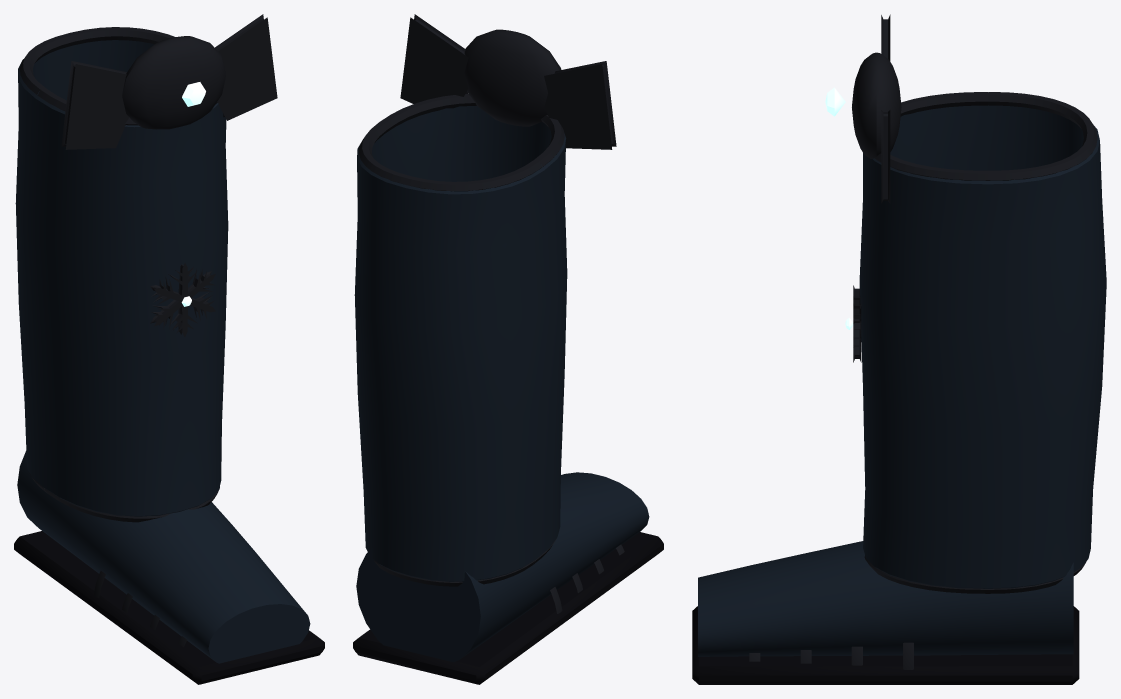
Rendered from esc_mirrorless_oracle_boots_R.glb.
3 views of the same model, side by side, from view 1: azimuth 30°, elevation 25°; view 2: azimuth 150°, elevation 25°; view 3: azimuth 270°, elevation 25° (orthographic). The views are drawn at different scales.
Parts seen in each view (by area): view 1: esc_mirrorless_oracle_boots, AT_foot_R; view 2: esc_mirrorless_oracle_boots, AT_foot_R; view 3: esc_mirrorless_oracle_boots, AT_foot_R.
Boxes of the visible parts, box(x1,y1,x2,y2) form: esc_mirrorless_oracle_boots: box(15, 14, 277, 522); AT_foot_R: box(14, 451, 324, 684); esc_mirrorless_oracle_boots: box(354, 14, 616, 586); AT_foot_R: box(353, 472, 663, 684); esc_mirrorless_oracle_boots: box(825, 14, 1106, 593); AT_foot_R: box(692, 541, 1079, 684).
Size of the model in its own units: 0.2244 by 0.5768 by 0.3641.
